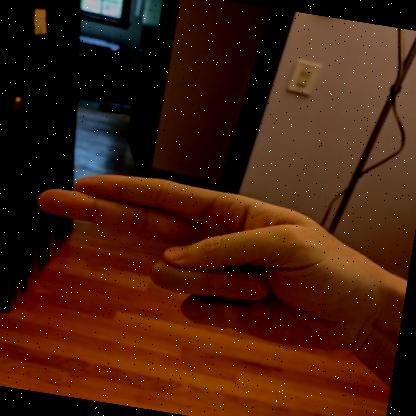H: (36, 174, 375, 360)
